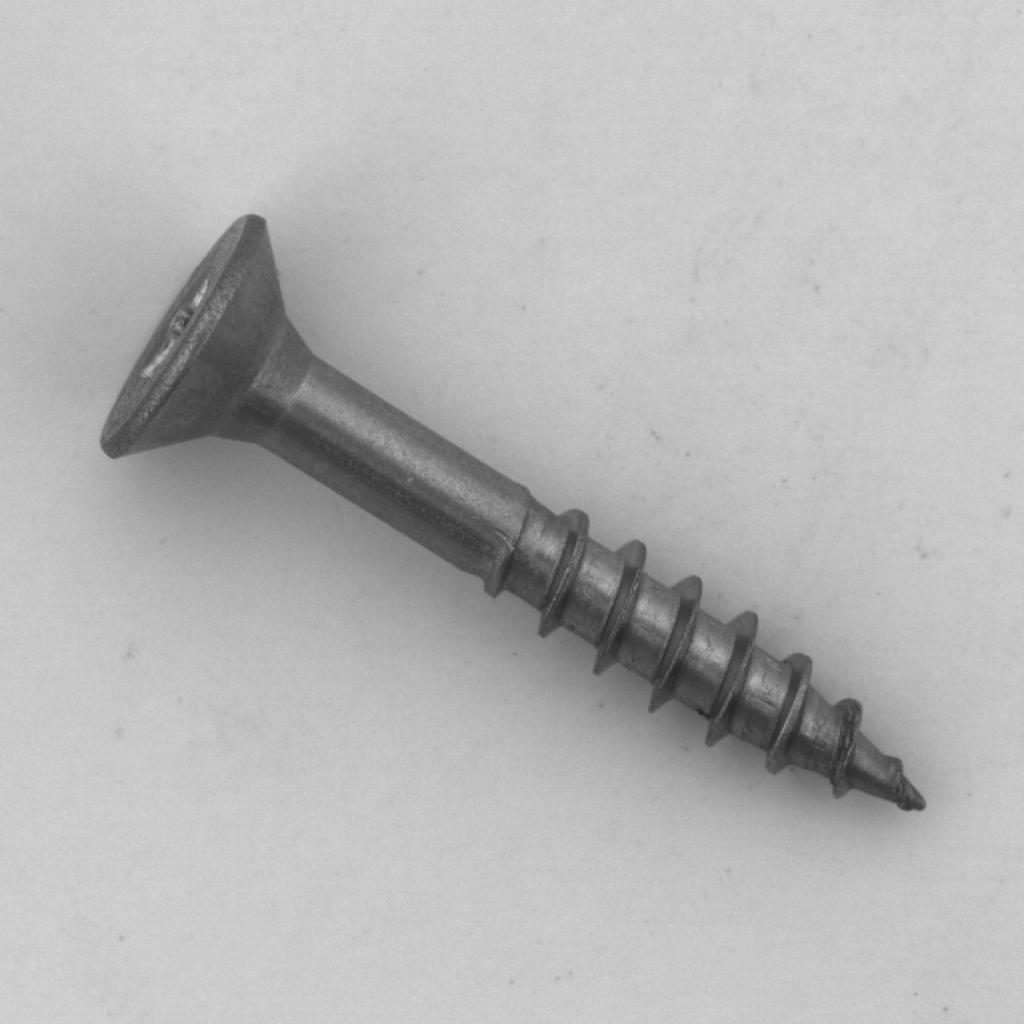good: (88, 198, 939, 851)
